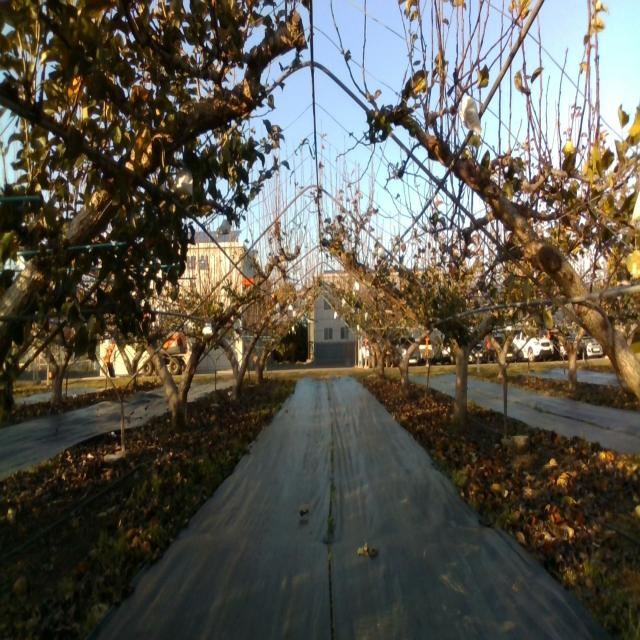pearbags: (459, 95, 482, 135), (170, 160, 193, 197)
